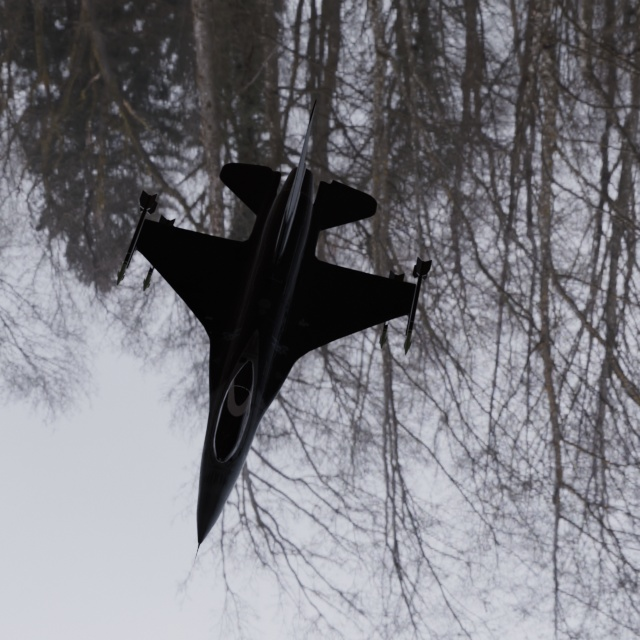model: (20, 66, 455, 611)
